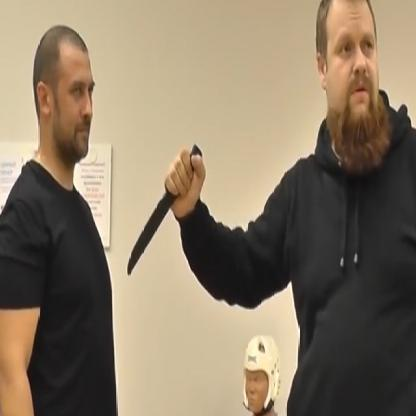knife: (124, 140, 207, 281)
